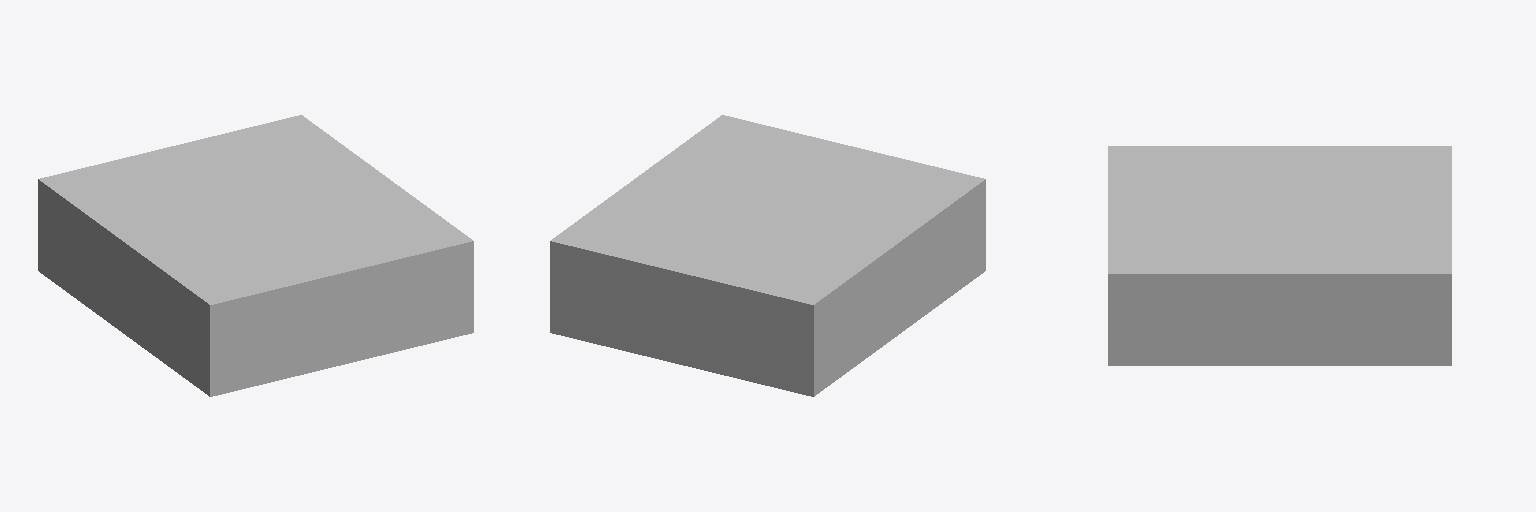
Rendered from map.obj.
The picture shows the model from 3 angles: view 1: azimuth 30°, elevation 25°; view 2: azimuth 150°, elevation 25°; view 3: azimuth 270°, elevation 25°; orthographic projection.
Visible parts, largest first — view 1: Cube_Cube.004; view 2: Cube_Cube.004; view 3: Cube_Cube.004.
Boxes of the visible parts, x1=… form: Cube_Cube.004: x1=38, y1=115, x2=473, y2=396; Cube_Cube.004: x1=550, y1=115, x2=985, y2=396; Cube_Cube.004: x1=1108, y1=146, x2=1451, y2=365.
Size of the model in its own units: 300 by 100 by 340.